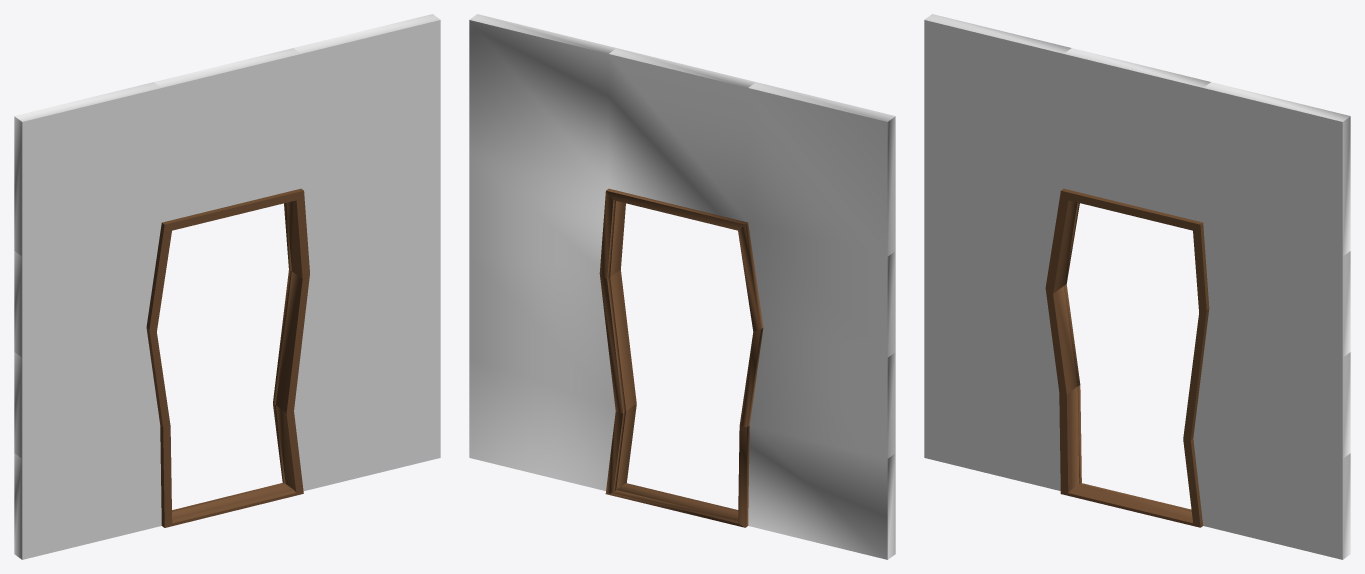
File: DoorFrameOutside.fbx
3 views of the same model, side by side, from view 1: azimuth 30°, elevation 25°; view 2: azimuth 150°, elevation 25°; view 3: azimuth 330°, elevation 25° (orthographic).
Visible parts, largest first — view 1: WallWithDoorFrameOutside; view 2: WallWithDoorFrameOutside; view 3: WallWithDoorFrameOutside.
Part boxes in pixels (x1,y1,x2,y2): WallWithDoorFrameOutside: (14,14,440,559); WallWithDoorFrameOutside: (469,14,895,559); WallWithDoorFrameOutside: (924,14,1350,559).
Size of the model in its own units: 300 by 300 by 17.42.
